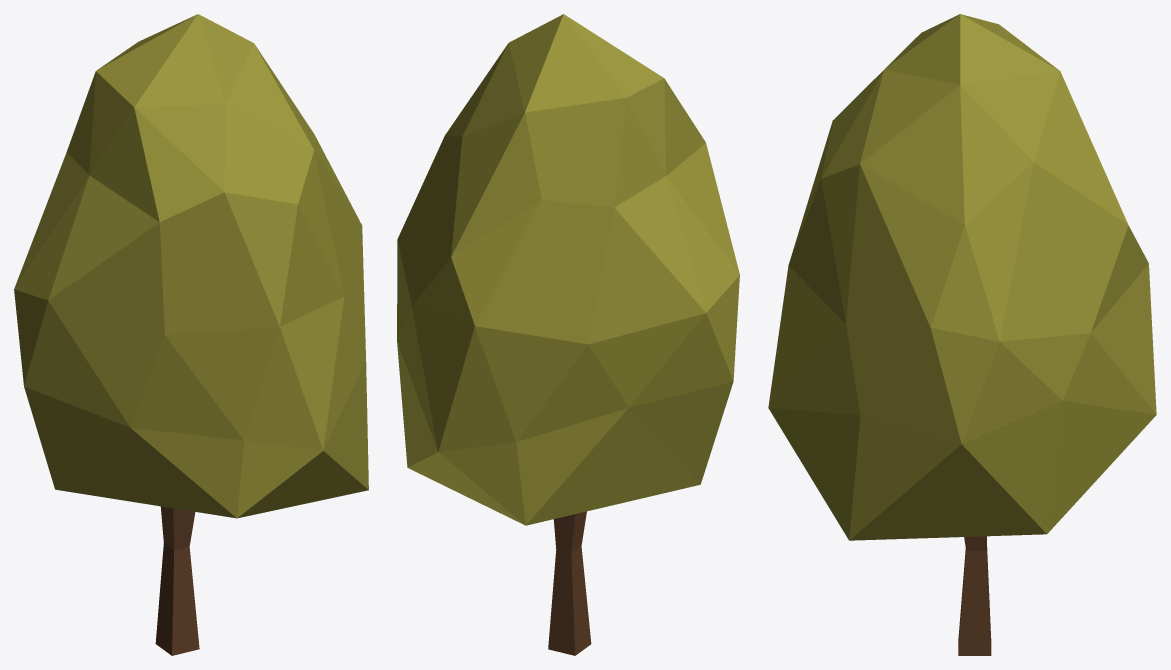
Rendered from Tree_56_Yellow.fbx.
The picture shows the model from 3 angles, left to right: view 1: azimuth 30°, elevation 25°; view 2: azimuth 150°, elevation 25°; view 3: azimuth 270°, elevation 25°; orthographic projection. The views are drawn at different scales.
Visible parts, largest first — view 1: Tree_56_Yellow_Part_1, Tree_56_Yellow_Part_2; view 2: Tree_56_Yellow_Part_1, Tree_56_Yellow_Part_2; view 3: Tree_56_Yellow_Part_1, Tree_56_Yellow_Part_2.
Boxes of the visible parts, <box> form: Tree_56_Yellow_Part_1: <box>14,14,368,518</box>; Tree_56_Yellow_Part_2: <box>155,506,199,655</box>; Tree_56_Yellow_Part_1: <box>397,14,739,525</box>; Tree_56_Yellow_Part_2: <box>548,511,591,655</box>; Tree_56_Yellow_Part_1: <box>768,14,1156,540</box>; Tree_56_Yellow_Part_2: <box>958,536,991,655</box>.
Bounding box in the file's own units: 336 × 599 × 329.
